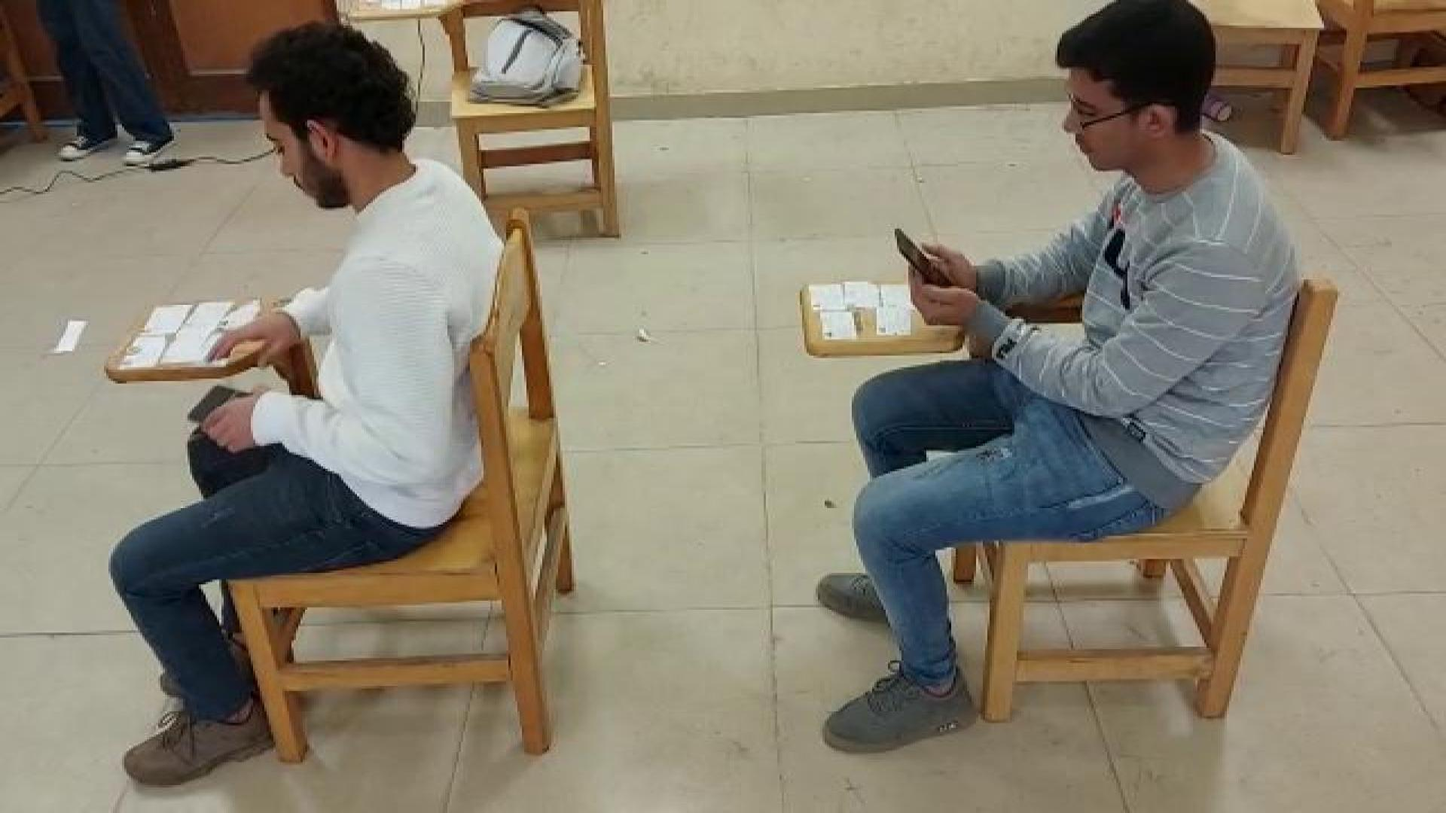phone: (883, 210, 969, 307), (178, 386, 282, 433)
